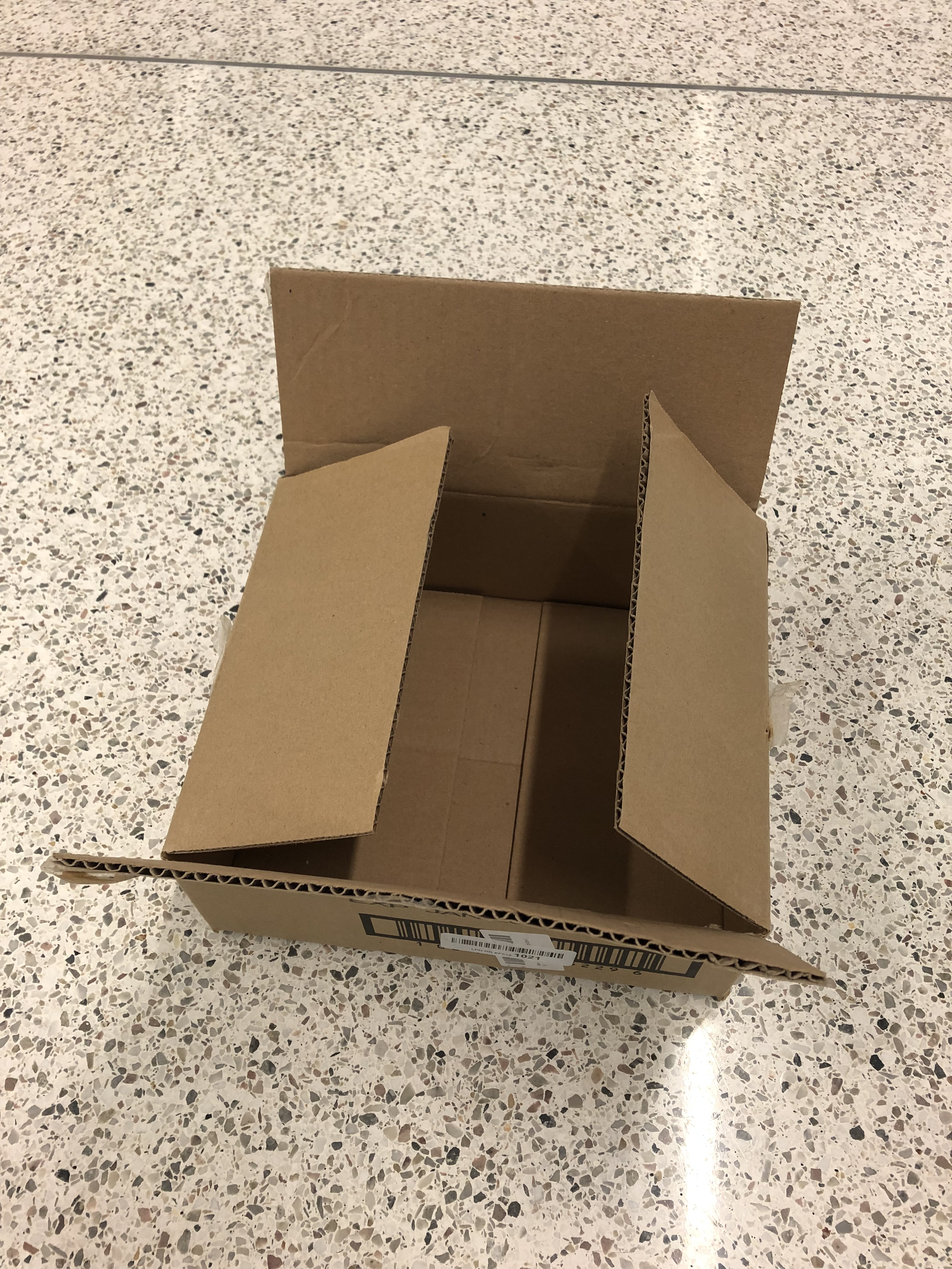box: (52, 266, 824, 999)
crushed: (54, 265, 829, 994)
